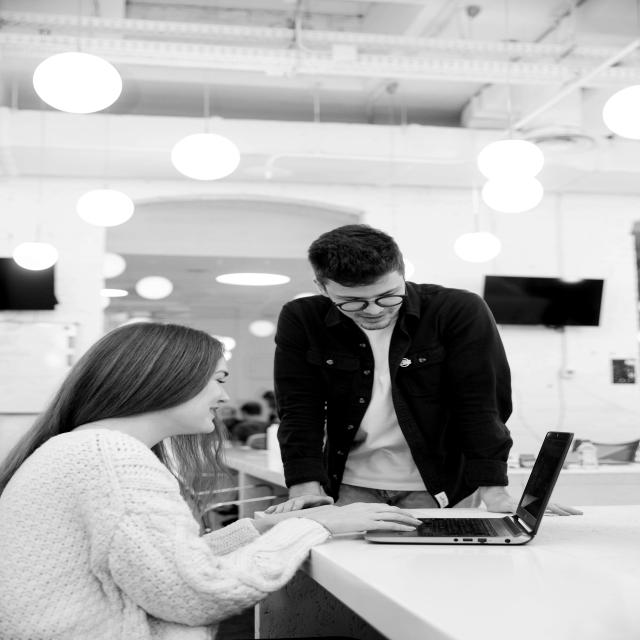No-Vest: (282, 289, 500, 495), (0, 427, 200, 639)
